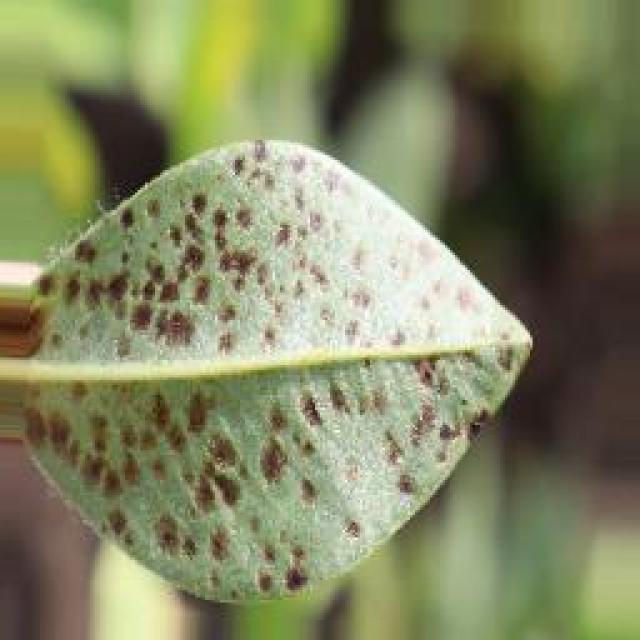Whitefly: (0, 122, 541, 630)
